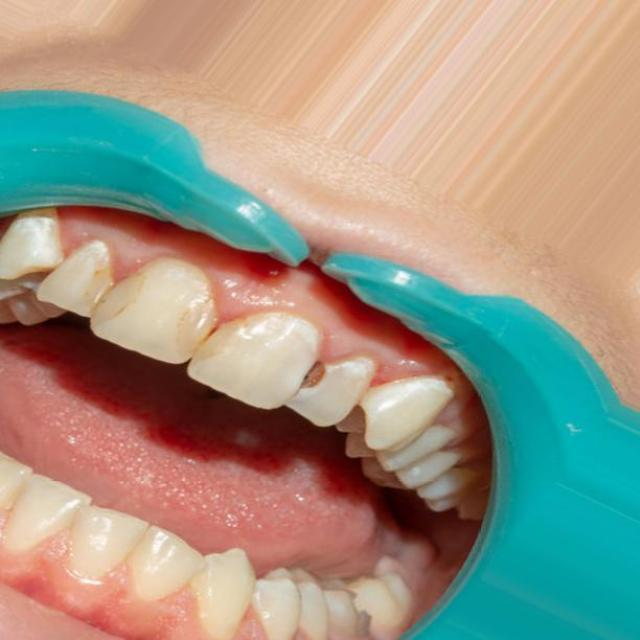caries: (170, 292, 250, 373), (77, 252, 146, 326), (274, 338, 343, 404)
